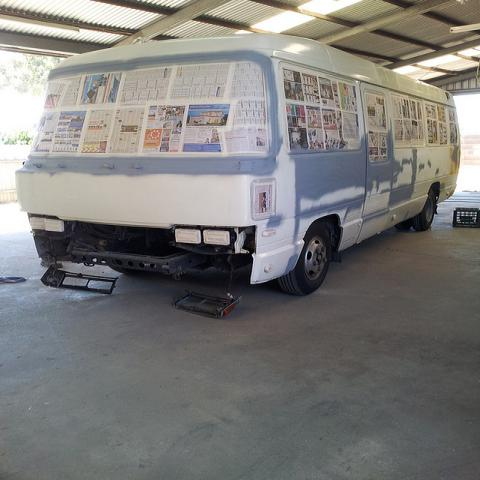bus: (16, 32, 464, 296)
